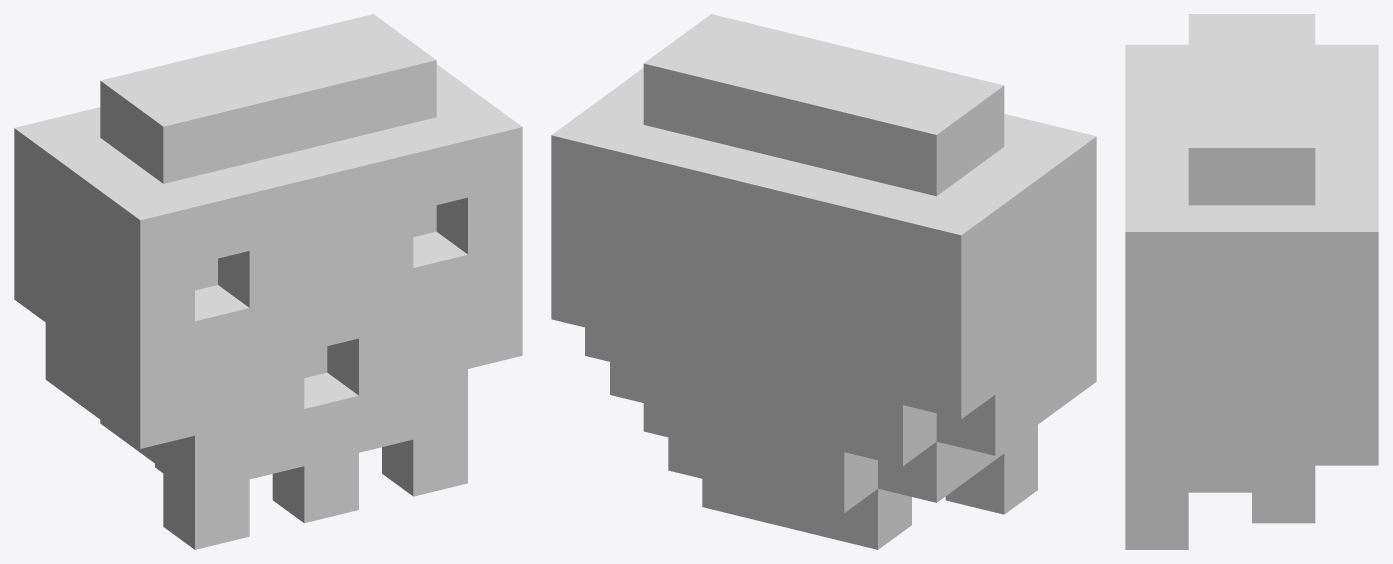
The model's file is shop_head.obj.
3 renders of one model, left to right at view 1: azimuth 30°, elevation 25°; view 2: azimuth 150°, elevation 25°; view 3: azimuth 270°, elevation 25°, orthographic. The views are drawn at different scales.
Bounding box in the file's own units: 7 × 7 × 4.
1 material, 1 textured.
